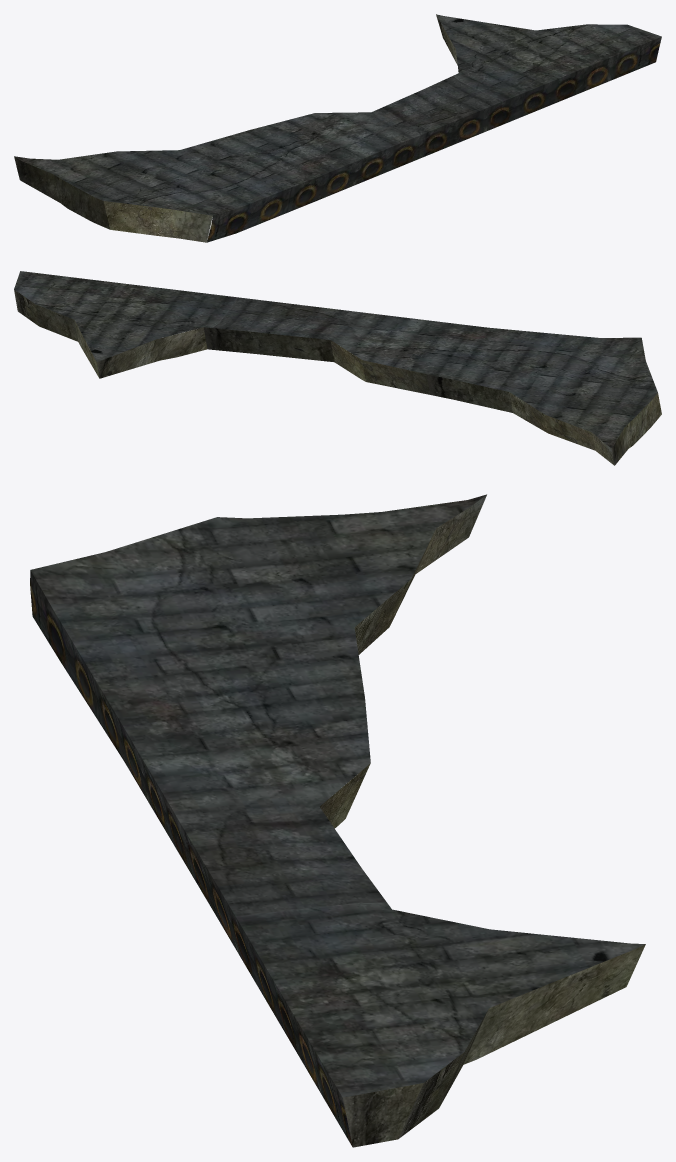
Rendered from TW2_9_ADDONS_12_6_5-transformed.glb.
3 views of the same model, one above another, from view 1: azimuth 30°, elevation 25°; view 2: azimuth 150°, elevation 25°; view 3: azimuth 270°, elevation 25° (orthographic). The views are drawn at different scales.
Parts seen in each view (by area): view 1: default; view 2: default; view 3: default.
Part boxes in pixels (left/top/right/bottom): default: left=14, top=14, right=661, bottom=242; default: left=14, top=271, right=661, bottom=465; default: left=30, top=494, right=645, bottom=1147.
Size of the model in its own units: 3.34 by 0.1738 by 1.46.
Materials: 2 (2 with a texture image).
